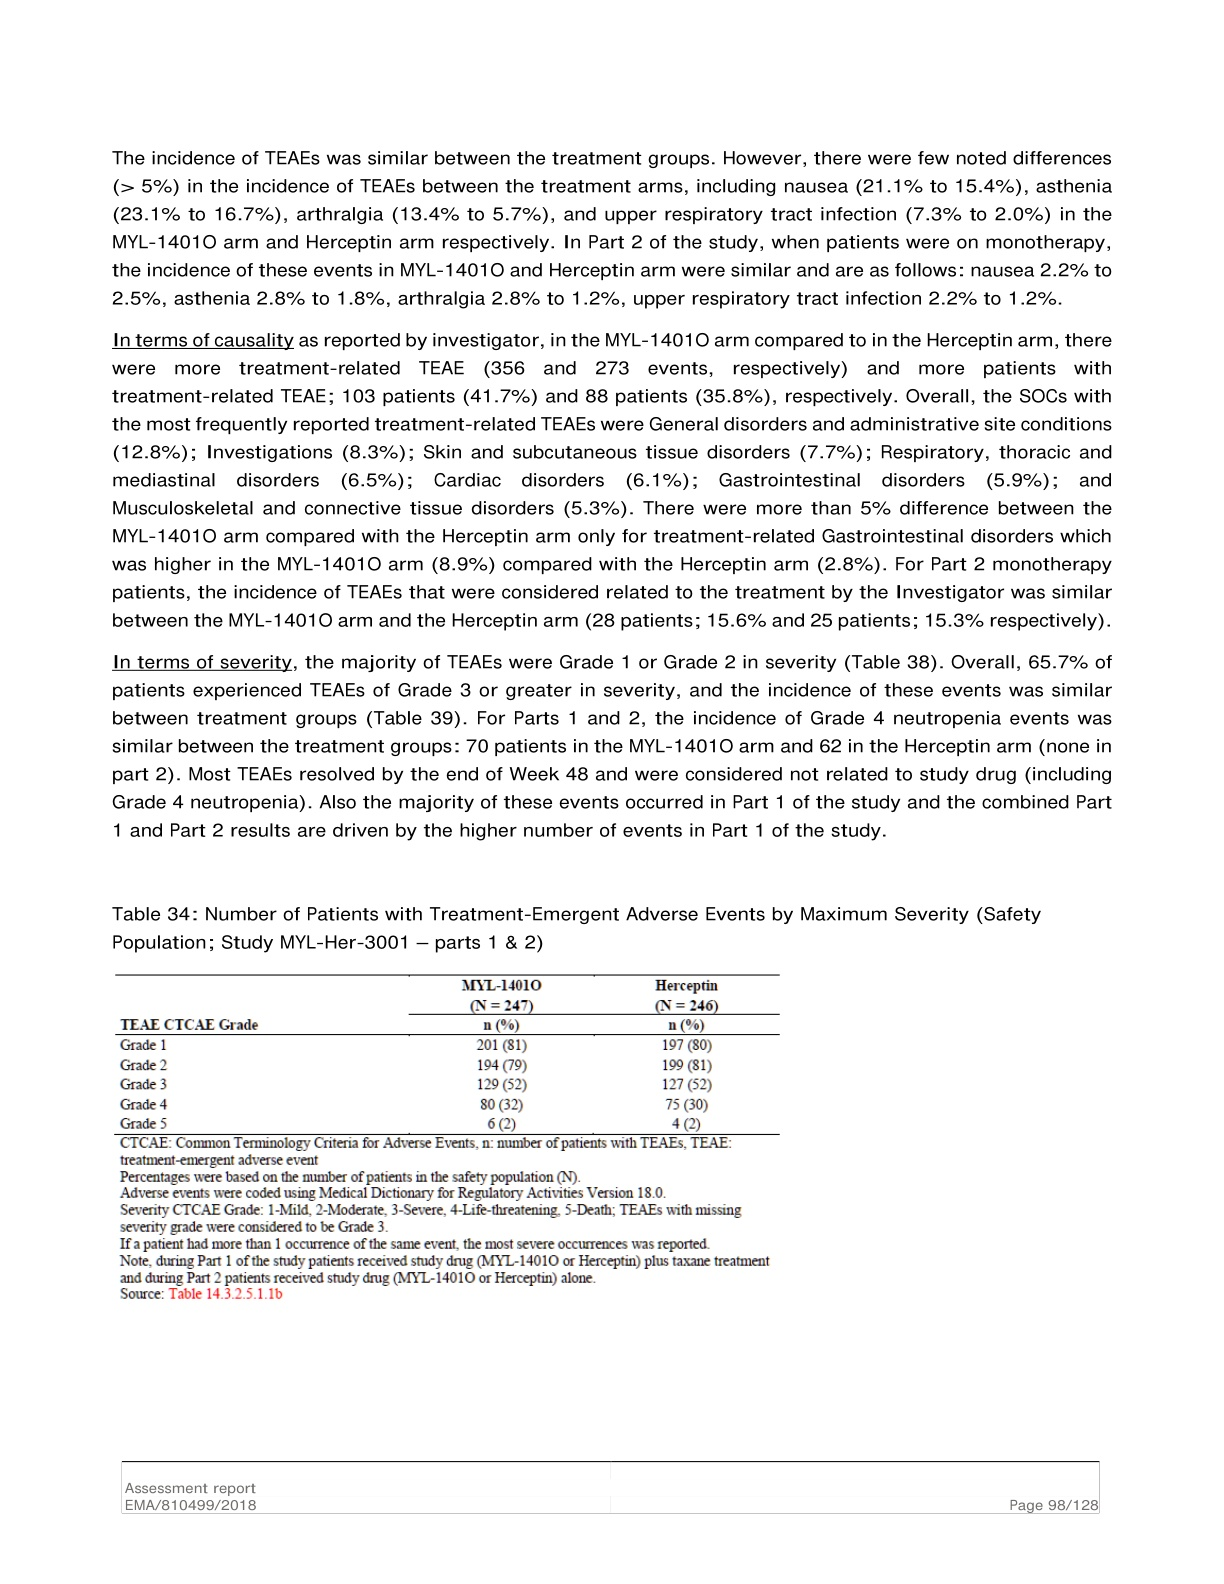partial_lined_merged_cells: (112, 975, 782, 1135)
